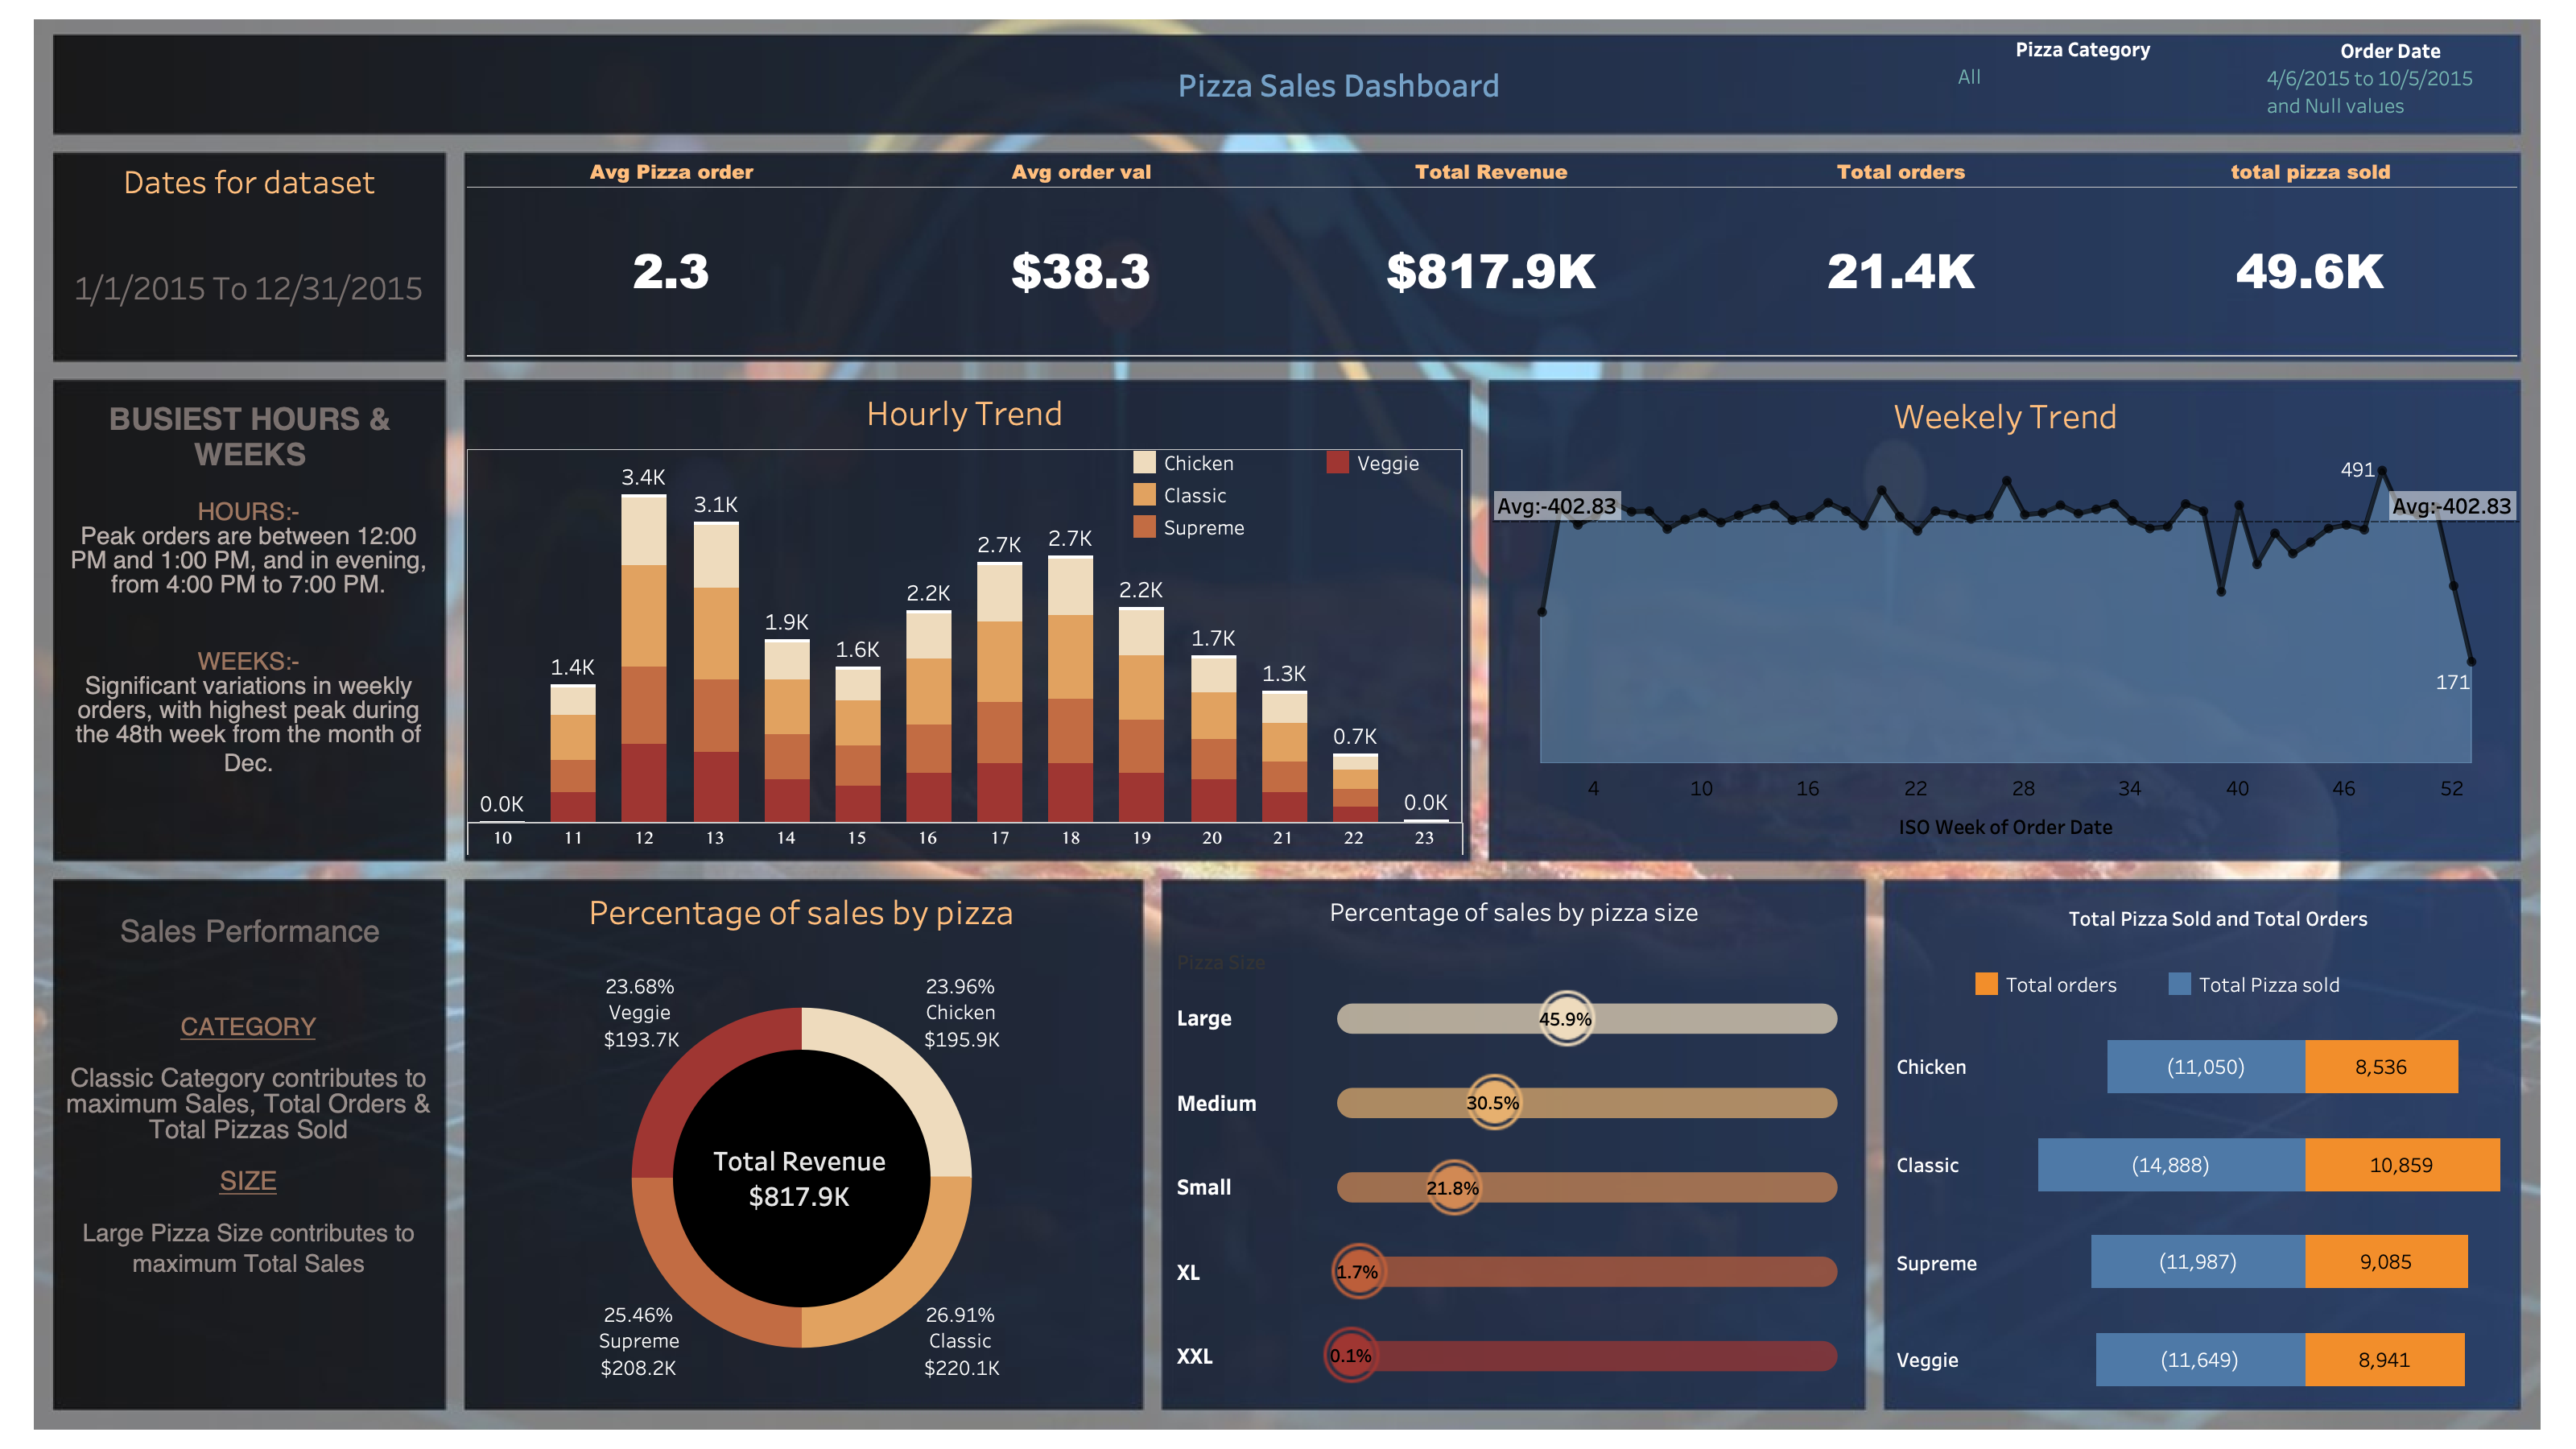

The page's visual inventory and layout, read from the dashboard file:
{"tool":"tableau","page":{"name":"Dashboard","canvas":[1600,900],"ordinal":0},"visuals":[{"type":"image","param":"/Users/yashshah/Downloads/Pizza Tableau 1.jpg","box":[8,8,1584,884]},{"type":"worksheet","title":"KPI","mark":"Automatic","box":[290,96,1274,126]},{"type":"worksheet","title":"Hourly Trend","mark":"Bar","rows":["Calculation_892134986567852036","Calculation_892134986567852036"],"cols":["order_time"],"box":[290,236,619,296]},{"type":"worksheet","title":"Weekely Trend","mark":"Area","rows":["Calculation_892134986568069125","Calculation_892134986568069125"],"cols":["order_date"],"box":[927,238,638,291]},{"type":"legend","title":"Hourly Trend","param":"[federated.1ubj0490d6a28k1ciyb1j1oqjfga].[none:pizza_category:nk]","box":[701,277,236,68]},{"type":"text","box":[115,386,100,30]},{"type":"worksheet","title":"Percentage of sales by pizza","mark":"Pie","rows":["Calculation_892134987018915848","Calculation_892134987018936330"],"box":[290,546,416,328]},{"type":"worksheet","title":"Percentage of sales by pizza size","mark":"Line","rows":["pizza_size"],"box":[725,550,431,318]},{"type":"text","box":[1282,555,192,30]},{"type":"legend","title":"Sheet 6","param":"[federated.1ubj0490d6a28k1ciyb1j1oqjfga].[:Measure Names]","box":[1224,601,276,41]},{"type":"worksheet","title":"Sheet 6","mark":"Automatic","rows":["pizza_category"],"box":[1172,632,395,243]}]}

Visuals, with their boxes in screenshot pixels (x1, y1, x2, y2), scaled from the page's 1600x900 canvas onto the 2576x1449 screenshot:
image: pyautogui.locateOnScreen(13, 13, 2563, 1436)
"KPI" worksheet: pyautogui.locateOnScreen(467, 155, 2518, 357)
"Hourly Trend" worksheet (Bar marks): pyautogui.locateOnScreen(467, 380, 1463, 857)
"Weekely Trend" worksheet (Area marks): pyautogui.locateOnScreen(1492, 383, 2520, 852)
"Hourly Trend" legend: pyautogui.locateOnScreen(1129, 446, 1509, 555)
text: pyautogui.locateOnScreen(185, 621, 346, 670)
"Percentage of sales by pizza" worksheet (Pie marks): pyautogui.locateOnScreen(467, 879, 1137, 1407)
"Percentage of sales by pizza size" worksheet (Line marks): pyautogui.locateOnScreen(1167, 885, 1861, 1397)
text: pyautogui.locateOnScreen(2064, 894, 2373, 942)
"Sheet 6" legend: pyautogui.locateOnScreen(1971, 968, 2415, 1034)
"Sheet 6" worksheet: pyautogui.locateOnScreen(1887, 1018, 2523, 1409)
